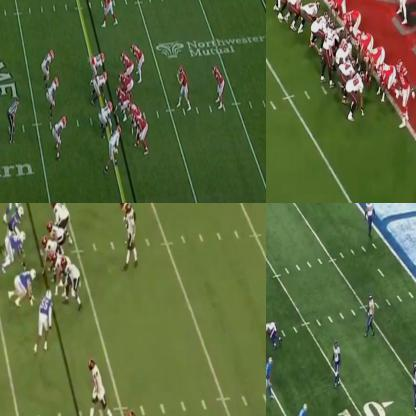CENTER: (40, 234, 59, 273), (115, 86, 128, 118), (340, 32, 352, 57)
DB: (365, 289, 375, 333), (332, 342, 340, 382), (366, 203, 375, 236), (410, 362, 415, 406)
LB: (397, 61, 410, 126), (37, 290, 51, 349), (52, 118, 66, 161), (46, 77, 59, 117), (43, 49, 54, 86), (394, 0, 409, 21)
QB: (321, 18, 336, 84), (126, 203, 138, 267), (178, 66, 188, 106)
SKILL: (88, 357, 116, 415), (212, 65, 225, 108), (289, 0, 304, 36), (108, 125, 121, 165), (132, 45, 144, 80), (266, 357, 275, 402), (100, 0, 113, 26), (295, 402, 310, 415), (271, 0, 291, 8), (119, 203, 126, 211)
